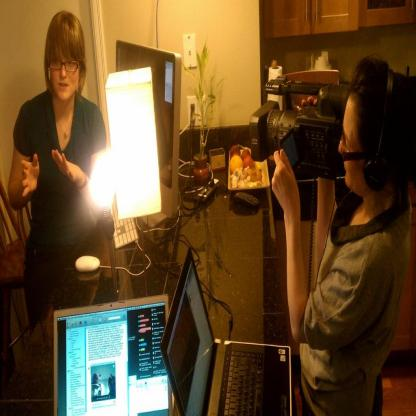board: (175, 274, 295, 416), (53, 294, 171, 416)
